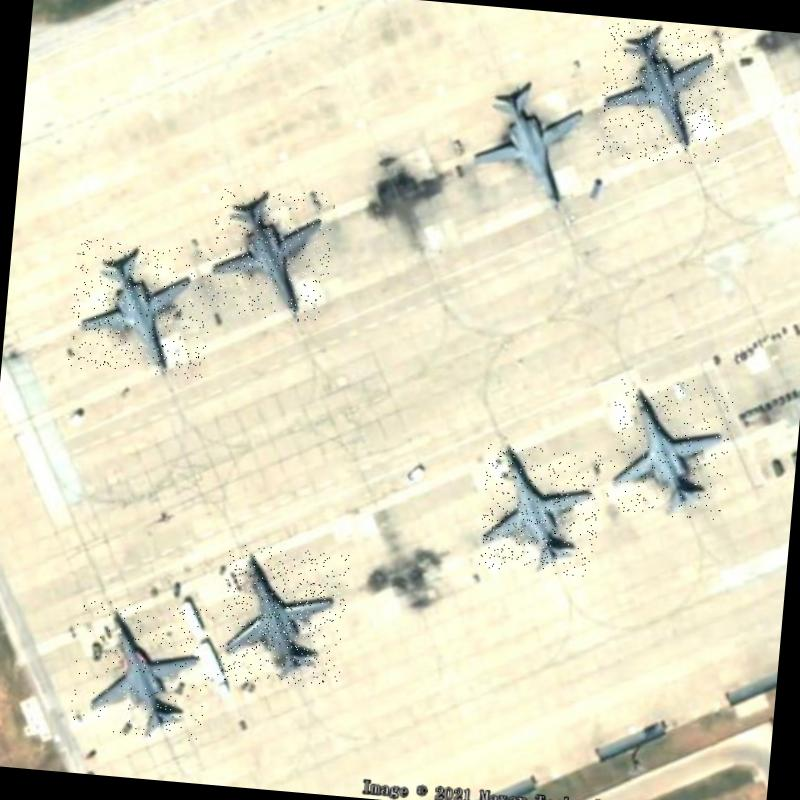A10: (454, 68, 600, 218), (66, 236, 215, 380), (68, 599, 215, 743), (595, 21, 732, 167), (217, 544, 350, 690), (605, 373, 735, 522), (207, 182, 336, 324), (478, 442, 604, 578)
